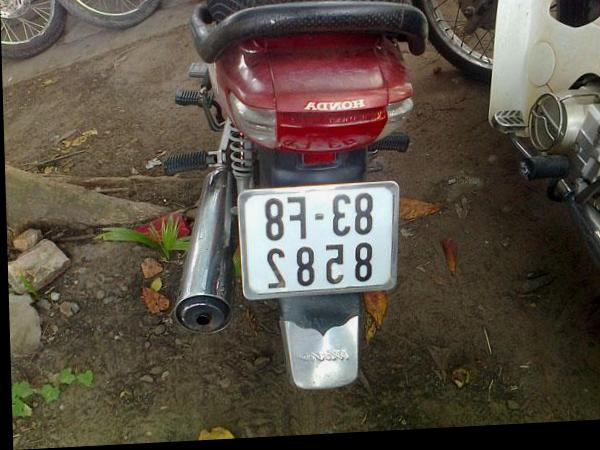License_Plate: (245, 182, 394, 298)
